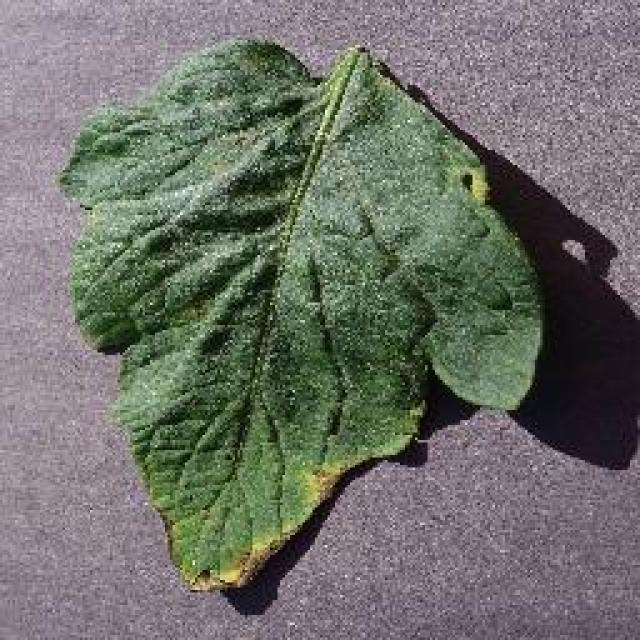Tomato___Target_Spot: (60, 40, 540, 588)
